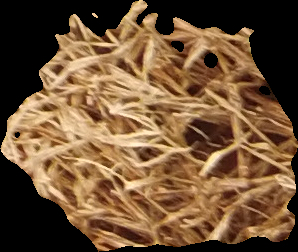soil: (1, 3, 295, 251)
